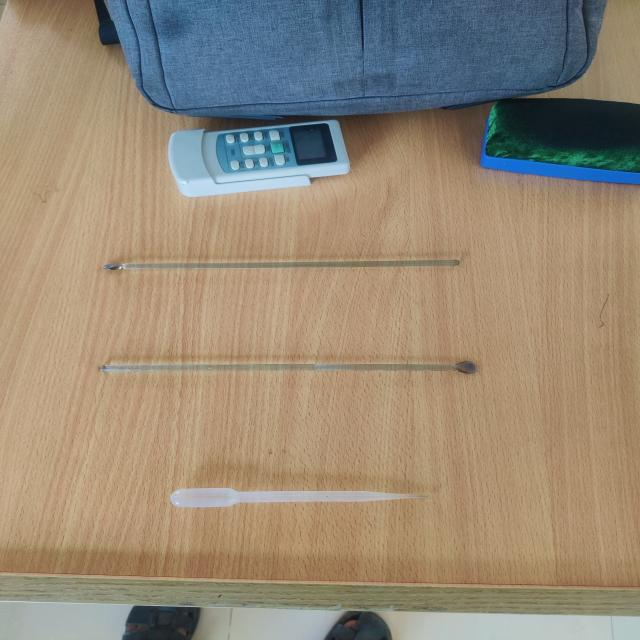Glass_Rod: (79, 210, 480, 291), (64, 331, 507, 403)
Pipette: (145, 455, 432, 538)
